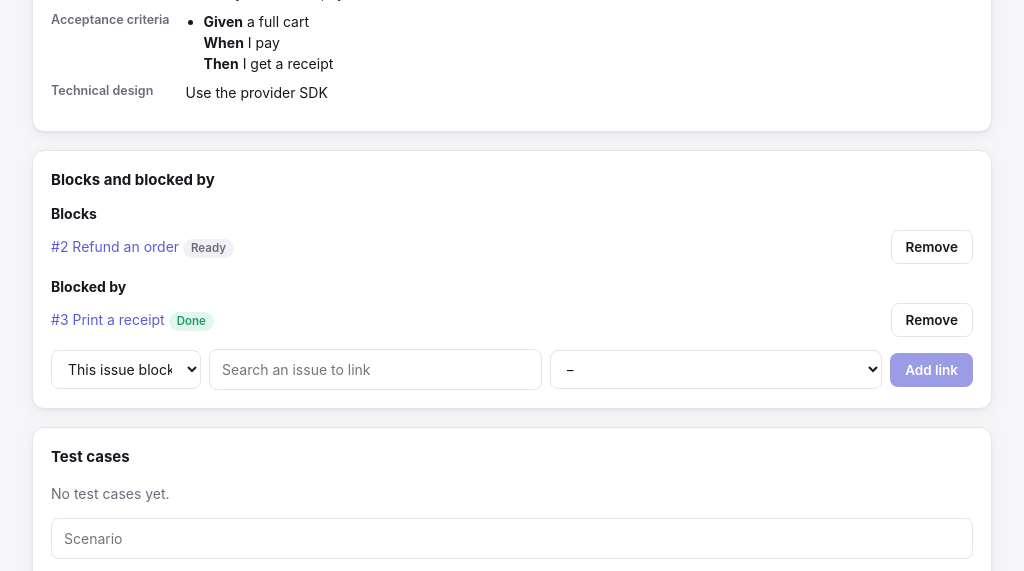
Test case: blocks and blocked by › shows a failed search
(page scrolled)
Type "re" into the search field labelled "Search an issue to link" at (375, 370), box [209,349,542,390]
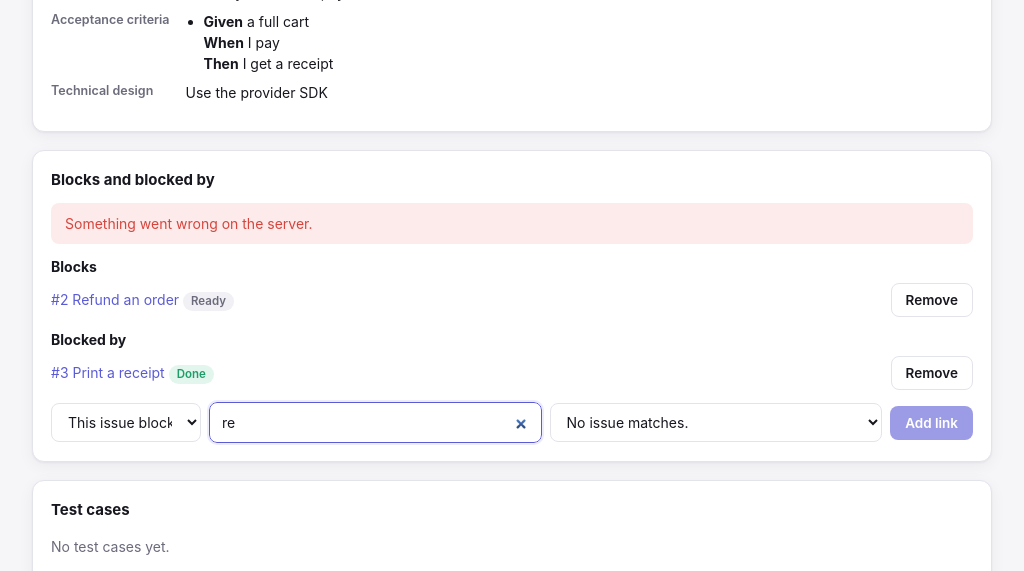
Check: the text "Something went wrong on the server." is shown, box [51,203,973,244]
